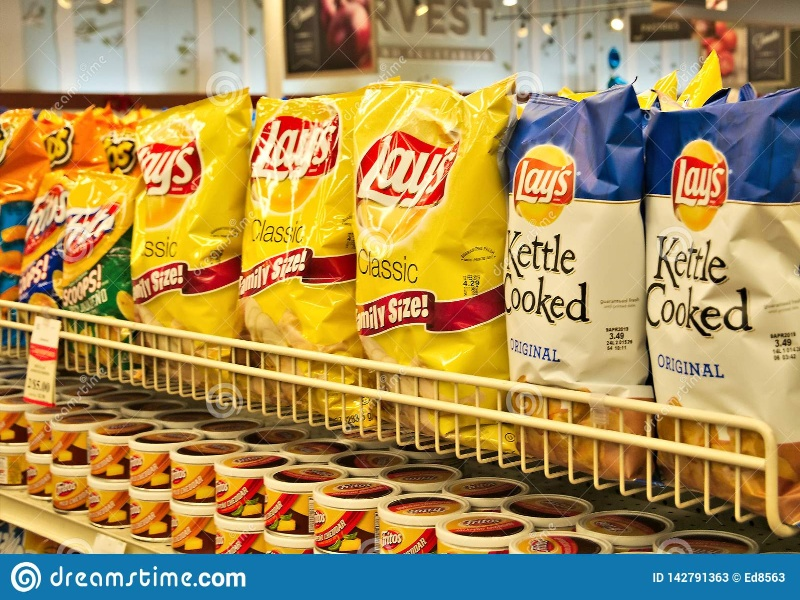chips: (640, 90, 800, 528), (353, 80, 523, 452), (504, 85, 656, 468), (245, 93, 373, 434), (132, 99, 259, 410), (59, 171, 144, 385)
